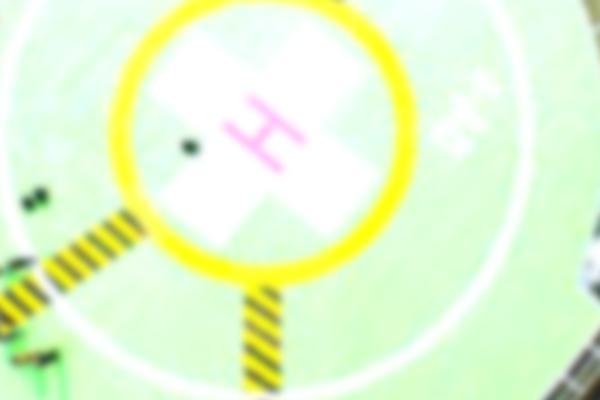Apron: (99, 1, 429, 298)
